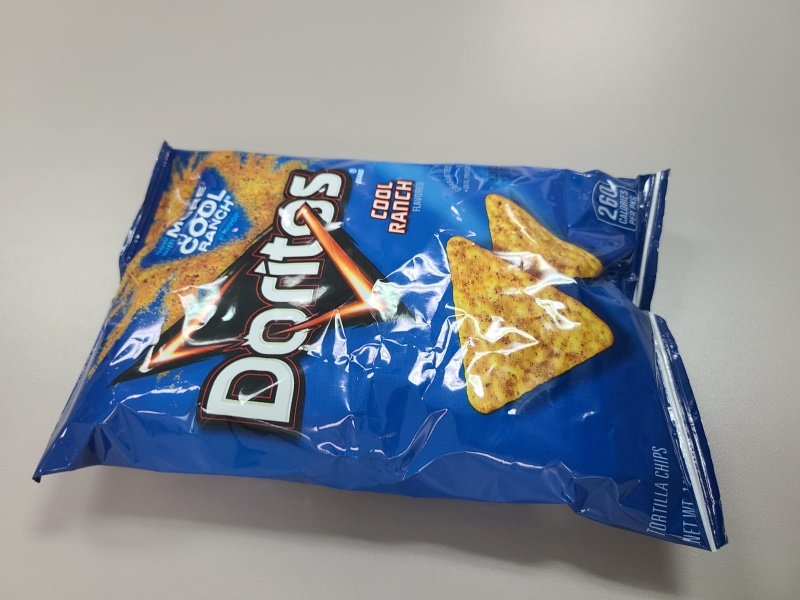doritos: (29, 141, 733, 553)
